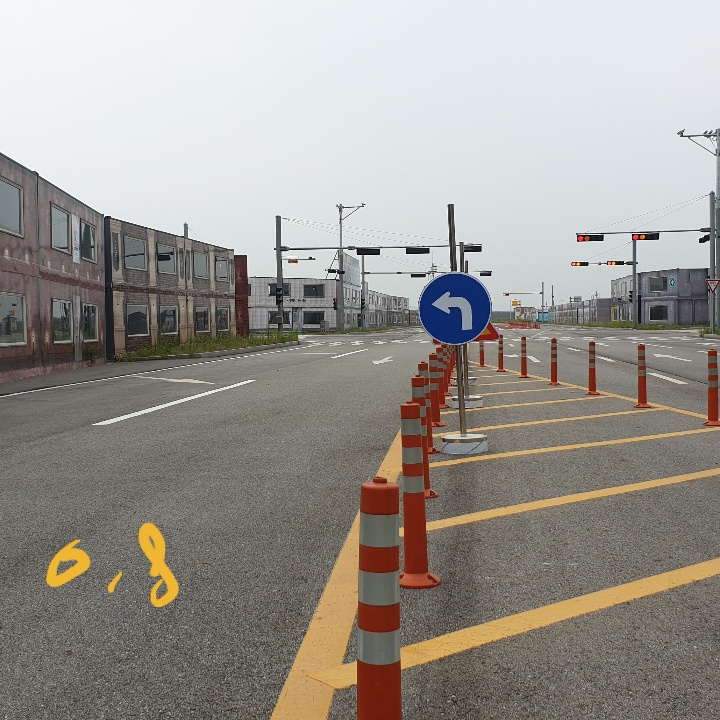left: (427, 287, 480, 335)
